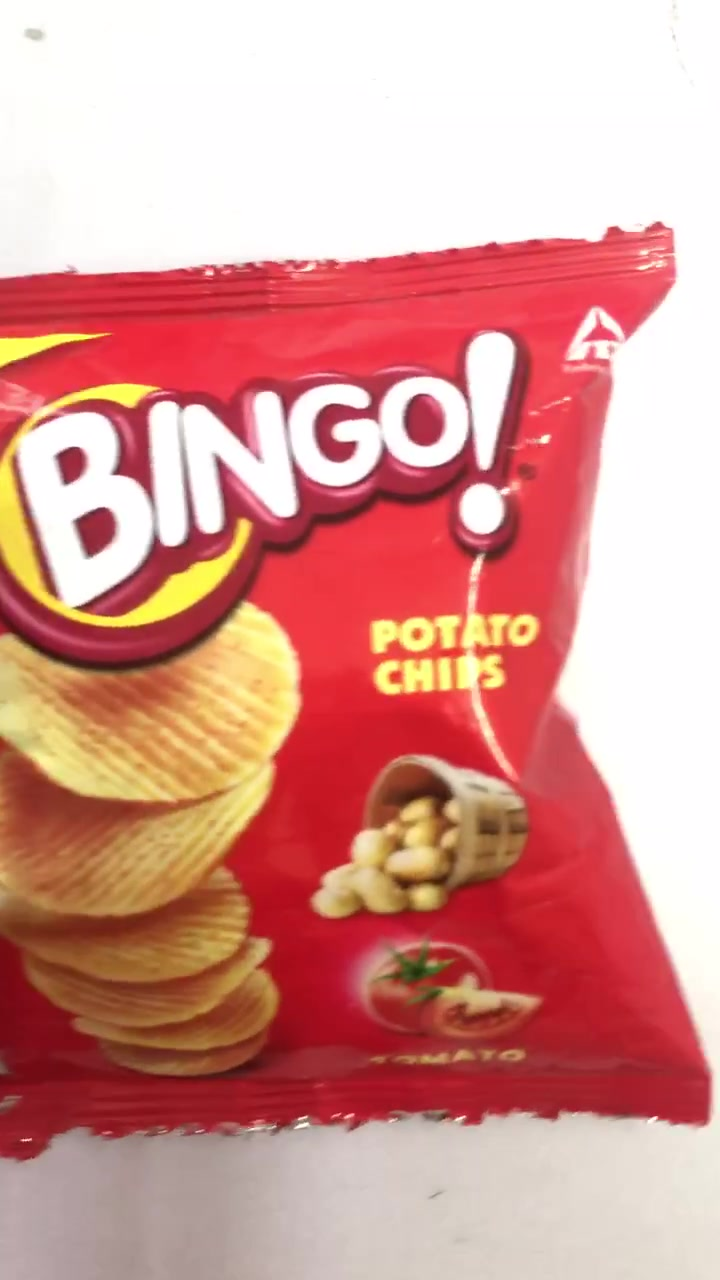Bingo: (3, 300, 574, 1100)
